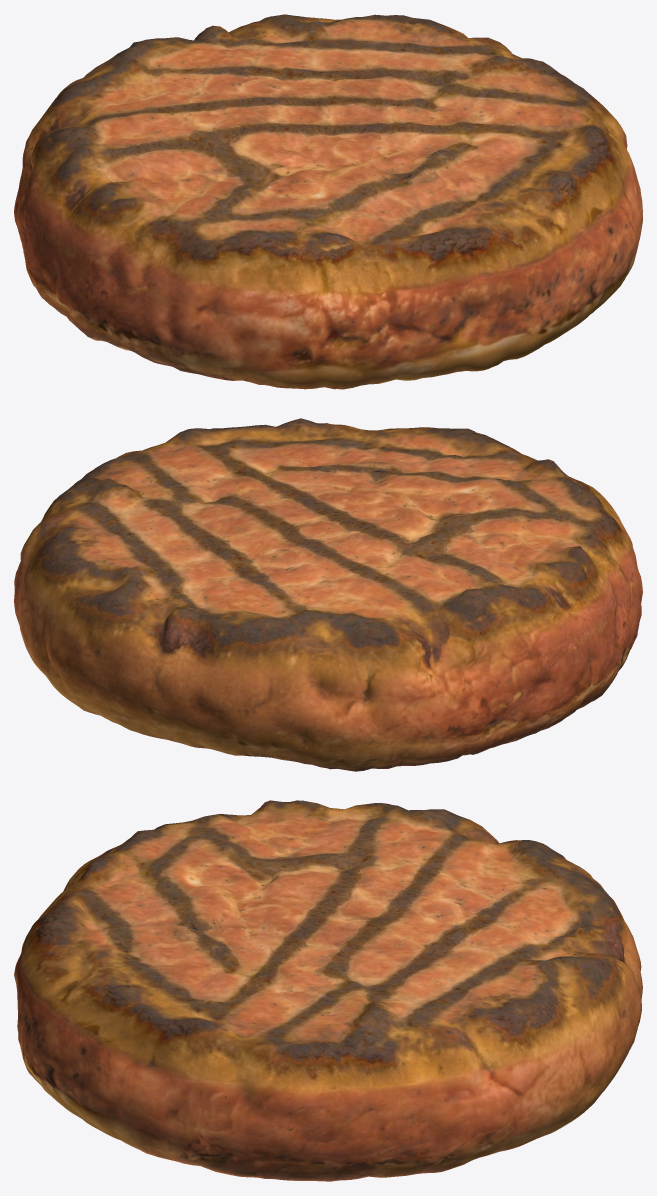
File: cooked_burger_patty_-_meatball.glb
The picture shows the model from 3 angles, top to bottom: view 1: azimuth 30°, elevation 25°; view 2: azimuth 150°, elevation 25°; view 3: azimuth 270°, elevation 25°; orthographic projection. The views are drawn at different scales.
Parts seen in each view (by area): view 1: Object_8; view 2: Object_8; view 3: Object_8.
Part boxes in pixels (x1,y1,x2,y2): Object_8: (14,14,642,389); Object_8: (14,418,642,771); Object_8: (14,800,642,1181).
Size of the model in its own units: 2 by 0.5327 by 1.97.
1 material, 1 textured.
